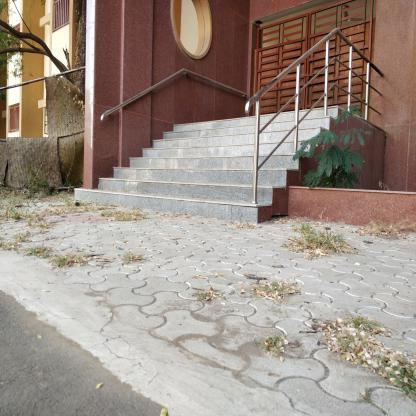stairs: (175, 121, 252, 225)
